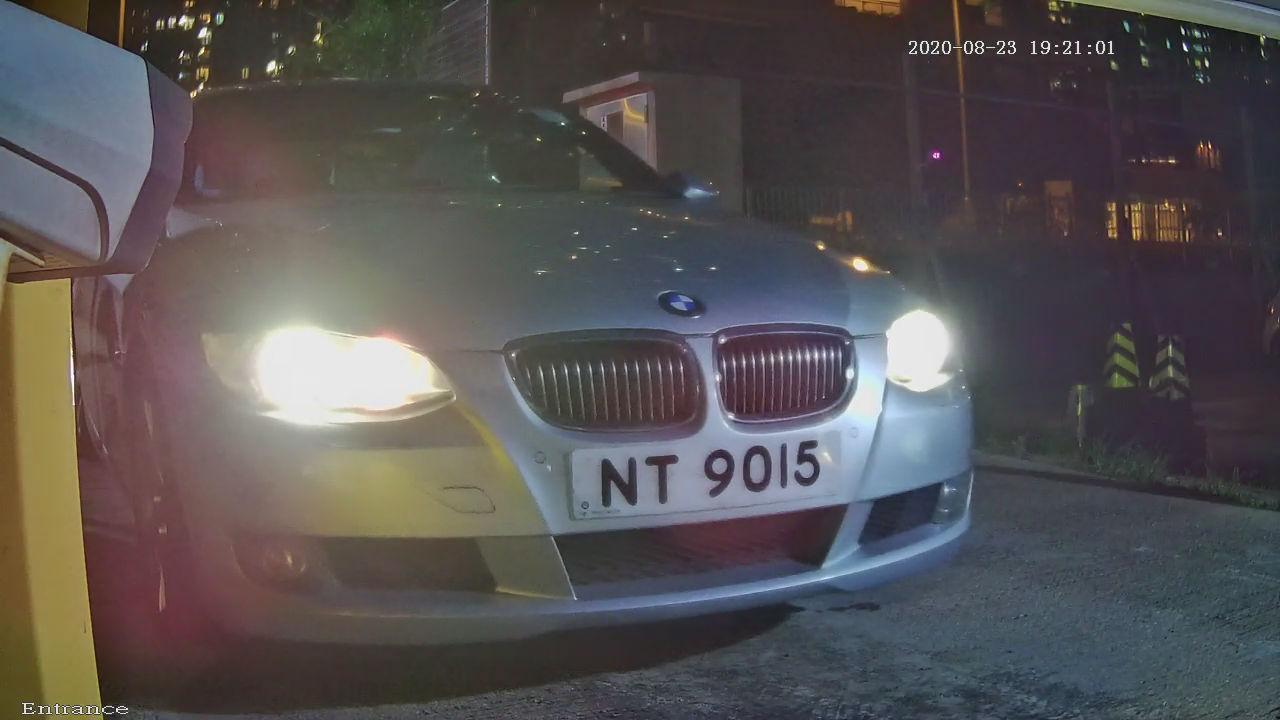Car: (23, 4, 1098, 701)
License Plate: (497, 365, 900, 563)
